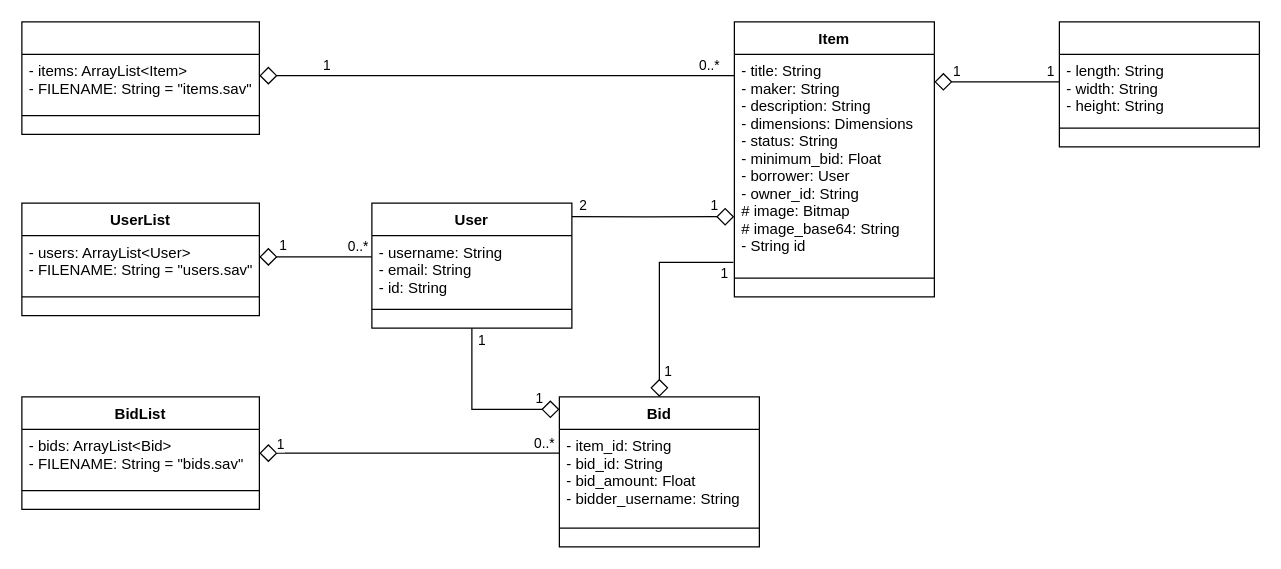
The diagram is 1281 pixels wide and 569 high, and some of its shapes have lost their labels. The shapes that lost their labels are listed below. From the top down, each one's box as (x1, y1, x2, y2) in pixels, then its label:
(21, 21, 259, 134): ItemList
(1058, 21, 1259, 147): Dimensions
